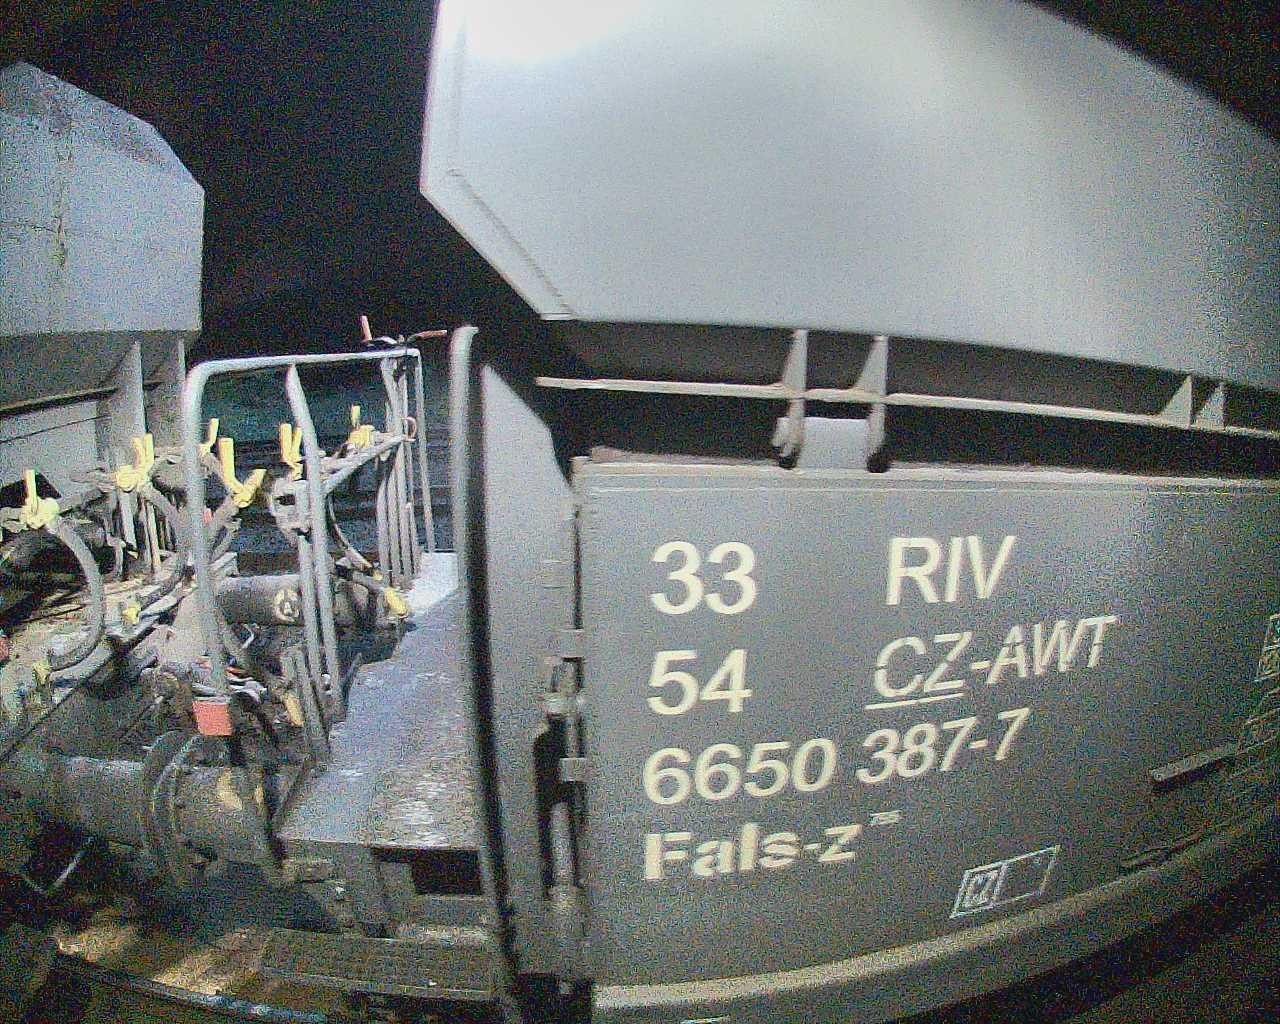UIC: (638, 535, 1120, 886)
